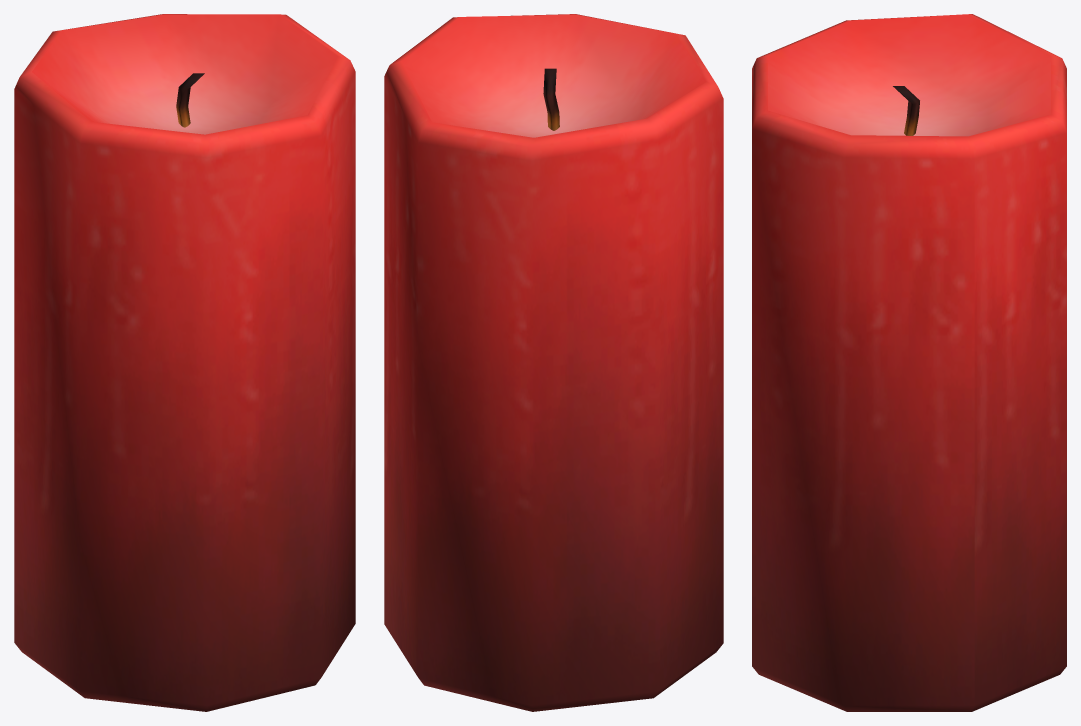
Rendered from dub_lounge_candle_01_on_lod1.glb.
3 renders of one model, left to right at view 1: azimuth 30°, elevation 25°; view 2: azimuth 150°, elevation 25°; view 3: azimuth 270°, elevation 25°, orthographic.
Visible parts, largest first — view 1: surf0; view 2: surf0; view 3: surf0.
Part boxes in pixels (x1=…): surf0: x1=14, y1=14, x2=355, y2=711; surf0: x1=384, y1=14, x2=723, y2=711; surf0: x1=752, y1=14, x2=1066, y2=711.
Size of the model in its own units: 3.31 by 6.66 by 3.31.
